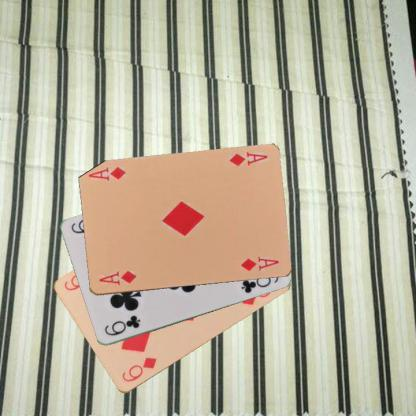6c: (102, 312, 142, 338)
6d: (119, 354, 158, 384)
Ad: (225, 150, 269, 168), (96, 268, 137, 287)
